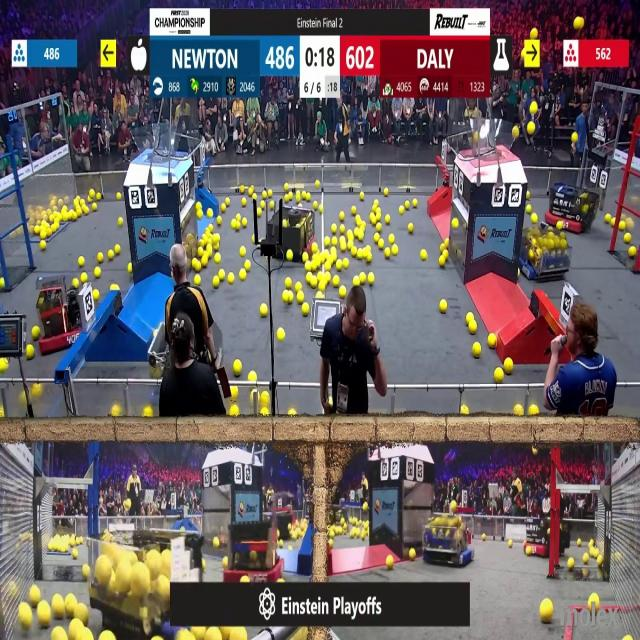ball_airborne: (573, 18, 583, 31), (527, 124, 535, 136), (530, 102, 538, 114), (530, 28, 538, 38), (571, 133, 578, 144), (451, 500, 458, 511), (514, 128, 520, 138), (472, 133, 478, 143), (532, 449, 537, 457)
ball_ground: (38, 604, 51, 627), (21, 606, 33, 630), (540, 600, 552, 622), (30, 586, 41, 604), (54, 628, 66, 639), (503, 358, 512, 372), (494, 368, 504, 380), (472, 343, 480, 358), (488, 335, 496, 349), (231, 386, 239, 400), (111, 406, 120, 418), (235, 360, 242, 375), (27, 346, 35, 359), (340, 238, 348, 251), (231, 407, 240, 418), (515, 407, 524, 418), (0, 358, 7, 372), (262, 303, 269, 317), (277, 328, 285, 340), (32, 326, 40, 338), (387, 557, 394, 570), (82, 565, 89, 578), (295, 291, 303, 302), (144, 408, 152, 419), (441, 301, 448, 313), (340, 286, 347, 298), (226, 273, 233, 285), (303, 305, 310, 317), (567, 558, 574, 570), (282, 290, 289, 302), (329, 247, 336, 259), (530, 407, 538, 417), (460, 408, 468, 418), (193, 275, 200, 286), (410, 550, 417, 561), (468, 322, 475, 333), (193, 262, 200, 273), (311, 277, 318, 288), (94, 289, 101, 300), (347, 239, 354, 250), (213, 537, 220, 548), (367, 274, 373, 286), (213, 277, 219, 289), (318, 273, 327, 281), (466, 312, 473, 322), (353, 277, 360, 287), (629, 247, 636, 257), (331, 276, 338, 286), (249, 372, 256, 382), (218, 271, 225, 281), (285, 279, 292, 289), (440, 256, 447, 266), (202, 256, 209, 266), (420, 250, 427, 260), (452, 218, 459, 228), (233, 220, 240, 230), (343, 258, 350, 268), (306, 274, 313, 284), (388, 235, 395, 245), (95, 268, 101, 279), (98, 252, 104, 263), (286, 250, 292, 261), (242, 262, 248, 273), (360, 274, 366, 285), (242, 575, 250, 583), (330, 238, 337, 247), (318, 282, 325, 291), (347, 231, 354, 240), (240, 271, 246, 281), (392, 246, 398, 256), (78, 256, 84, 266), (80, 273, 86, 283), (0, 278, 5, 290), (625, 234, 631, 244), (214, 253, 220, 263), (73, 278, 79, 288), (242, 217, 248, 227), (620, 220, 626, 230), (385, 248, 391, 258), (304, 252, 310, 262), (72, 550, 78, 560), (324, 238, 330, 248), (337, 262, 343, 272), (351, 248, 357, 258), (108, 250, 114, 260), (357, 232, 363, 242), (355, 215, 361, 225), (584, 555, 590, 565), (198, 246, 204, 256), (596, 557, 602, 567), (526, 548, 532, 558), (316, 291, 323, 299), (288, 410, 295, 418), (110, 284, 118, 291), (213, 235, 220, 243), (262, 410, 270, 417), (589, 600, 594, 611), (379, 240, 385, 249), (114, 245, 120, 254), (340, 212, 346, 221), (377, 222, 383, 231), (362, 502, 368, 511), (526, 205, 532, 214), (324, 263, 330, 272), (208, 209, 214, 218), (312, 244, 318, 253), (117, 217, 123, 226), (369, 214, 375, 223), (609, 217, 615, 226), (604, 214, 610, 223), (312, 263, 318, 272), (241, 246, 246, 256), (40, 241, 45, 251), (222, 558, 227, 568), (532, 213, 537, 223), (364, 246, 371, 253), (295, 282, 301, 290), (365, 254, 371, 262), (306, 264, 312, 272), (256, 208, 262, 216), (375, 235, 381, 243), (259, 201, 265, 209), (198, 211, 204, 219), (592, 594, 598, 602), (403, 202, 409, 210), (268, 189, 274, 197), (306, 192, 312, 200), (90, 189, 96, 197), (220, 205, 226, 213), (526, 190, 532, 198), (40, 232, 46, 240), (269, 202, 275, 210), (284, 192, 290, 200), (409, 223, 414, 232), (341, 224, 346, 233), (209, 223, 214, 232), (294, 192, 299, 201), (596, 599, 600, 610), (398, 207, 404, 214), (442, 243, 448, 250), (331, 224, 336, 232), (444, 250, 449, 258), (351, 207, 356, 215), (97, 192, 102, 200), (359, 191, 364, 199), (413, 200, 418, 208), (93, 204, 98, 212), (507, 539, 512, 547), (83, 207, 88, 215), (224, 199, 229, 207), (195, 202, 200, 210), (0, 410, 4, 420), (284, 183, 289, 191), (237, 212, 242, 220), (386, 215, 390, 224), (278, 577, 284, 583), (202, 560, 206, 569), (374, 201, 378, 210), (384, 188, 389, 195), (252, 193, 257, 200), (319, 207, 324, 214), (129, 266, 133, 274), (242, 200, 246, 208), (116, 191, 120, 199), (217, 216, 221, 224), (314, 202, 318, 210), (576, 538, 580, 546), (316, 180, 320, 188), (252, 236, 256, 244), (483, 533, 487, 540), (626, 636, 632, 640), (288, 544, 292, 550)
goal: (468, 122, 522, 159), (130, 130, 188, 161)
robot_blue: (424, 511, 475, 567), (517, 226, 567, 283)
robot_red: (228, 519, 286, 585), (263, 202, 319, 267), (38, 276, 85, 352), (547, 183, 599, 234), (522, 515, 550, 557)
